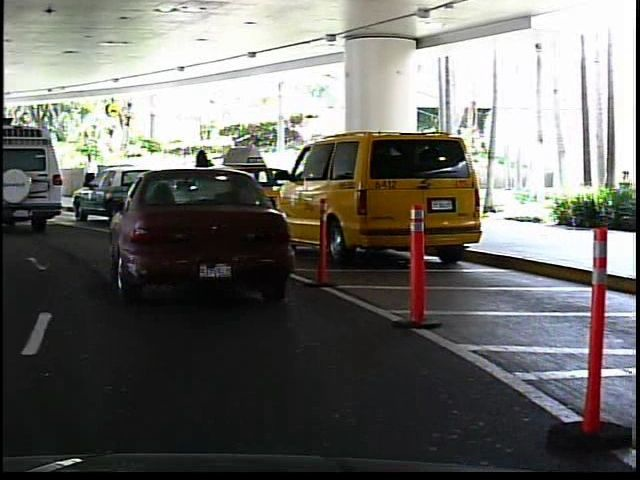person: (191, 144, 223, 210), (228, 141, 254, 209), (80, 148, 102, 201), (15, 157, 34, 196)
